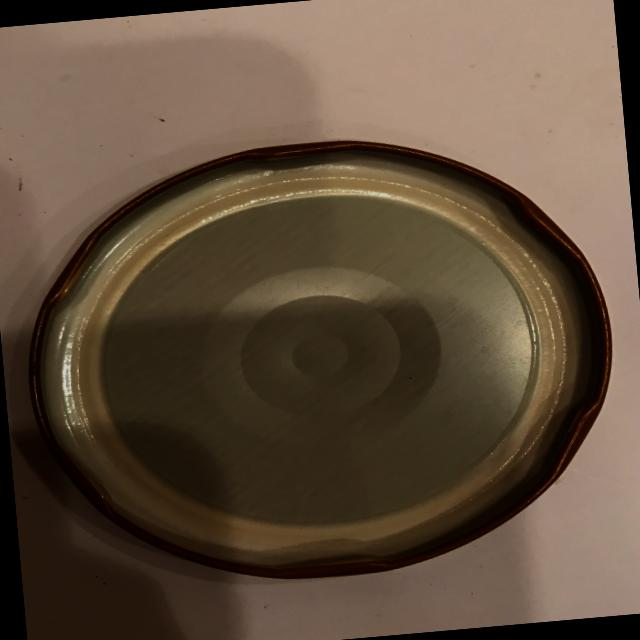Metal: (0, 107, 640, 622)
